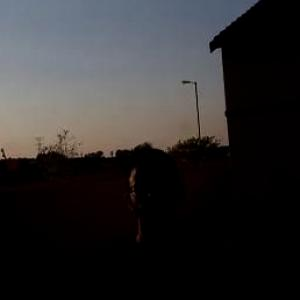follow: (91, 137, 249, 299)
